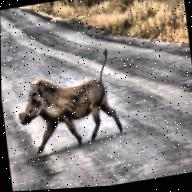boar: (11, 46, 123, 157)
